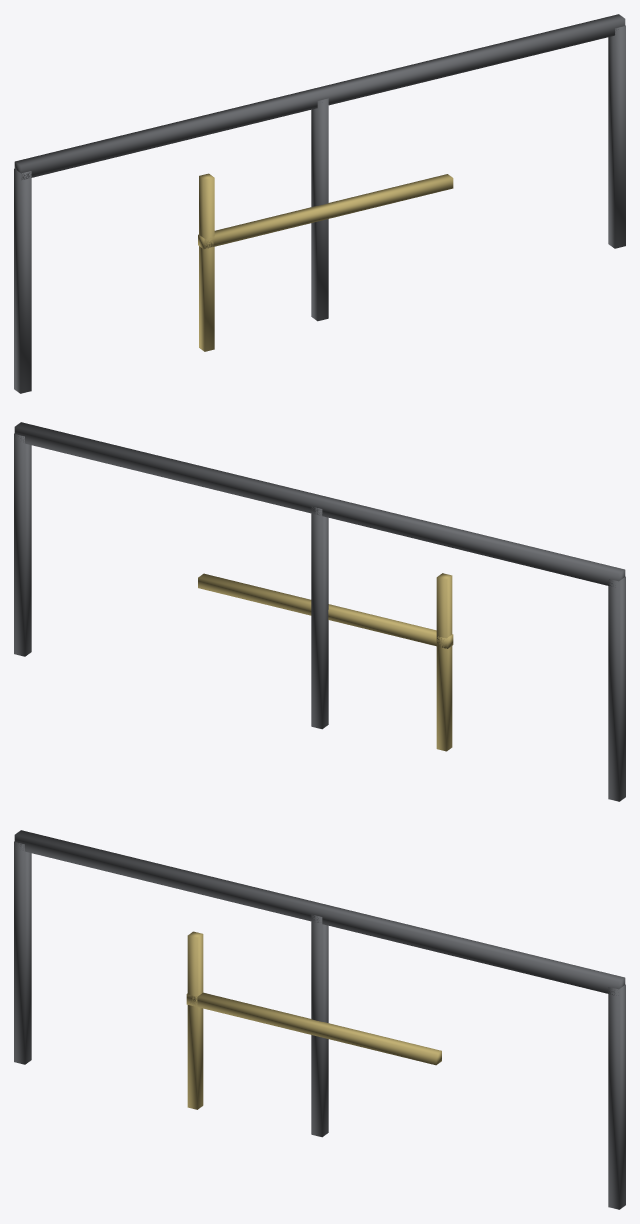
Rendered from industrial_gate_l240_h85.glb.
The picture shows the model from 3 angles, top to bottom: view 1: azimuth 30°, elevation 25°; view 2: azimuth 150°, elevation 25°; view 3: azimuth 330°, elevation 25°; orthographic projection.
Parts seen in each view (by area): view 1: world; view 2: world; view 3: world.
Boxes of the visible parts, x1,y1,x2,y2 form: world: [14, 14, 625, 393]; world: [14, 422, 625, 801]; world: [14, 830, 625, 1209].
Bounding box in the file's own units: 2.44 × 0.8775 × 0.0825.
